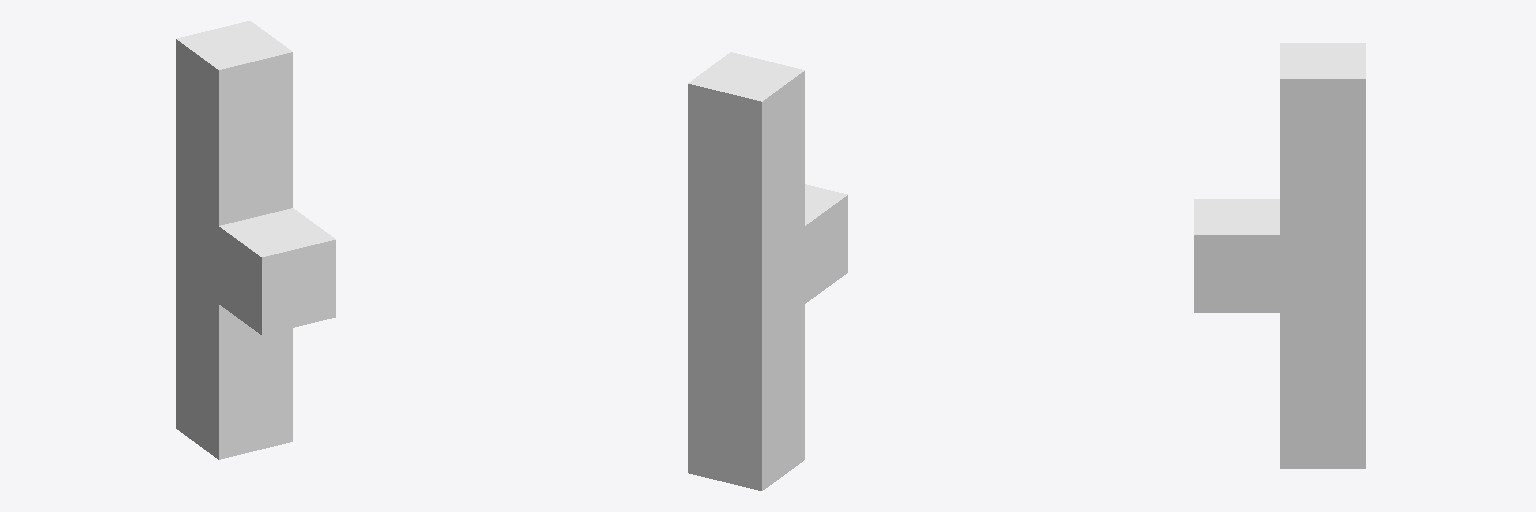
Rendered from HE51RED_P.obj.
The picture shows the model from 3 angles: view 1: azimuth 30°, elevation 25°; view 2: azimuth 150°, elevation 25°; view 3: azimuth 270°, elevation 25°; orthographic projection.
Bounding box in the file's own units: 4 × 20 × 8.